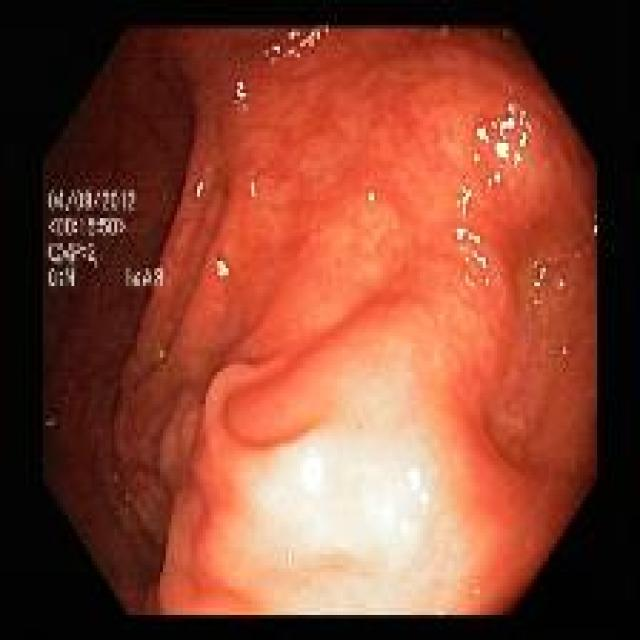ulcerative-colitis: (44, 28, 595, 612)
